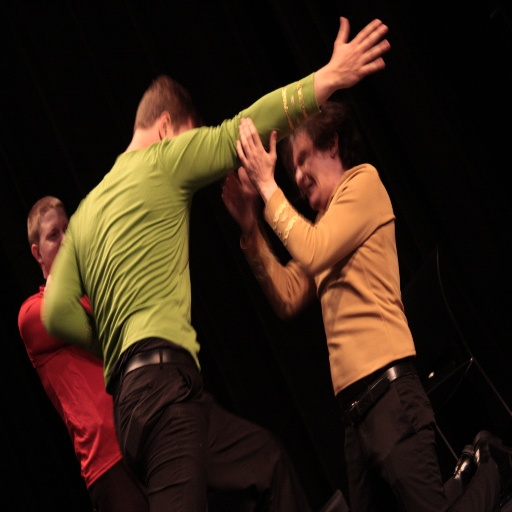hand: (302, 23, 395, 96), (235, 114, 277, 195), (220, 168, 258, 228)
